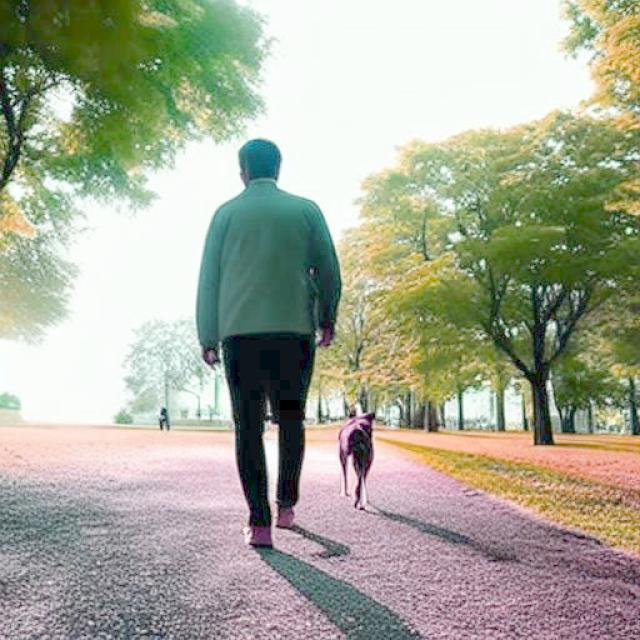Unleashed_Dog: (242, 327, 378, 512)
